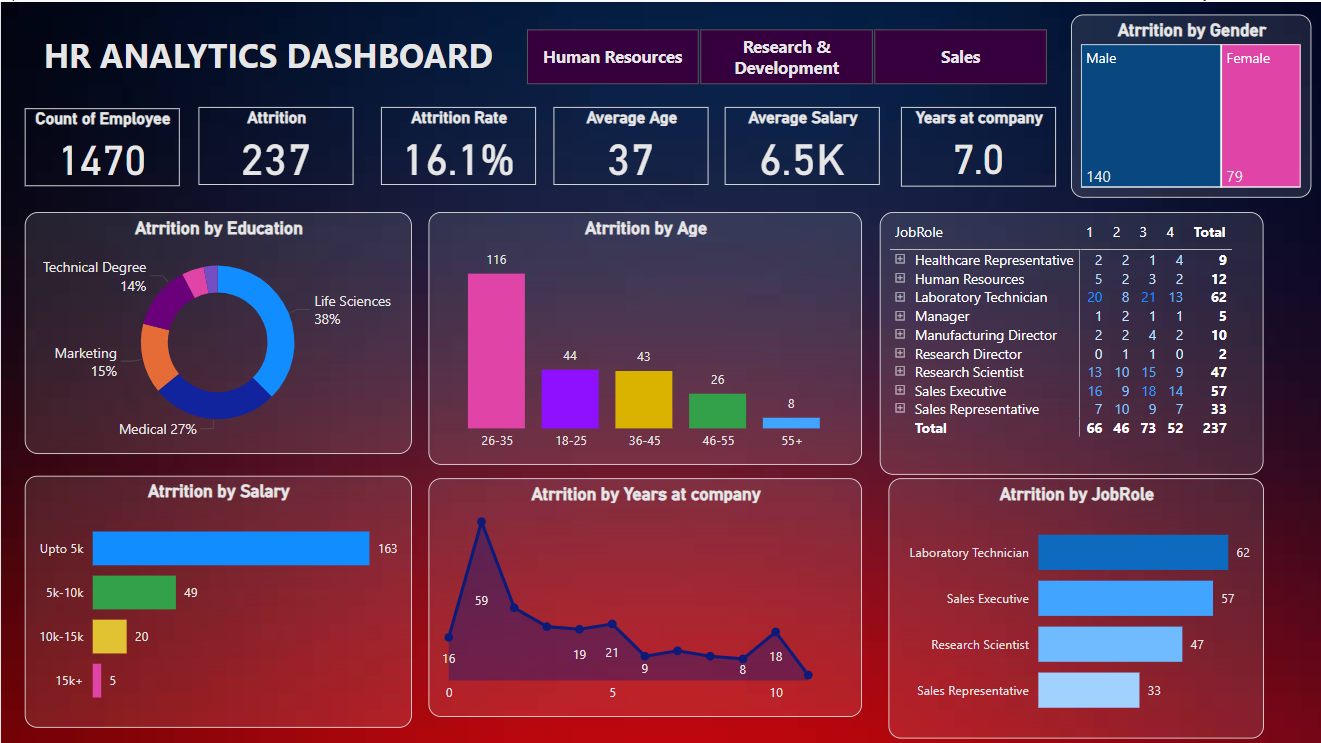

Layout of this report page (visuals, bound fields, positions):
{"tool":"powerbi","page":{"name":"Page 1","canvas":[1280,720],"ordinal":0},"visuals":[{"type":"card","title":"Count of Employee","fields":{"Values":["Count(HR_Analytics.EmpID)"]},"box":[23.3,102.6,149.6,75.5],"z":0},{"type":"card","title":"Attrition","fields":{"Values":["Sum(HR_Analytics.Atrrition_count)"]},"box":[190.7,101.5,149.6,75.5],"z":1000},{"type":"card","title":"Attrition Rate","fields":{"Values":["HR_Analytics.Atrrition_rate"]},"box":[366.4,101.5,149.6,75.5],"z":2000},{"type":"card","title":"Average Age","fields":{"Values":["Avg(HR_Analytics.Age)"]},"box":[533.8,101.5,149.6,75.5],"z":3000},{"type":"card","title":"Average Salary","fields":{"Values":["Avg(HR_Analytics.MonthlyIncome)"]},"box":[698.5,101.5,149.6,75.5],"z":4000},{"type":"card","title":"Years at company","fields":{"Values":["Avg(HR_Analytics.YearsAtCompany)"]},"box":[868.6,101.5,149.6,76.8],"z":5000},{"type":"donutChart","title":"Atrrition by Education","fields":{"Category":["HR_Analytics.EducationField"],"Y":["Sum(HR_Analytics.Atrrition_count)"]},"box":[23.3,203.1,373.2,233.3],"z":6000},{"type":"columnChart","title":"Atrrition by Age","fields":{"Category":["HR_Analytics.AgeGroup"],"Y":["Sum(HR_Analytics.Atrrition_count)"]},"box":[413,203.1,418.5,244.3],"z":7000},{"type":"pivotTable","fields":{"Rows":["HR_Analytics.JobRole","HR_Analytics.Gender"],"Columns":["HR_Analytics.JobSatisfaction"],"Values":["Sum(HR_Analytics.Atrrition_count)"]},"box":[848,203.1,370.5,253.9],"z":8000},{"type":"clusteredBarChart","title":"Atrrition by Salary","fields":{"Category":["HR_Analytics.SalarySlab"],"Y":["Sum(HR_Analytics.Atrrition_count)"]},"box":[23.3,456.9,373.2,242.9],"z":9000},{"type":"clusteredBarChart","title":"Atrrition by JobRole","fields":{"Category":["HR_Analytics.JobRole"],"Y":["Sum(HR_Analytics.Atrrition_count)"]},"box":[856.3,459.7,362.3,251.1],"z":10000},{"type":"stackedAreaChart","title":"Atrrition by Years at company","fields":{"Category":["HR_Analytics.YearsAtCompany"],"Y":["Sum(HR_Analytics.Atrrition_count)"]},"box":[413,459.7,418.5,230.5],"z":11000},{"type":"treemap","title":"Atrrition by Gender","fields":{"Group":["HR_Analytics.Gender"],"Values":["Sum(HR_Analytics.Atrrition_count)"]},"box":[1033.3,12.3,231.9,177],"z":12000},{"type":"slicer","fields":{"Values":["HR_Analytics.Department"]},"box":[481.6,19.2,551.6,67.2],"z":13000},{"type":"textbox","box":[0,24.7,516,61.7],"z":14000}]}

Visuals, with their boxes in screenshot pixels (x1, y1, x2, y2), scaled from the page's 1280x720 canvas onto the 1321x743 screenshot:
"Count of Employee" card: (24, 106, 178, 184)
"Attrition" card: (197, 105, 351, 183)
"Attrition Rate" card: (378, 105, 533, 183)
"Average Age" card: (551, 105, 705, 183)
"Average Salary" card: (721, 105, 875, 183)
"Years at company" card: (896, 105, 1051, 184)
"Atrrition by Education" donutChart: (24, 210, 409, 450)
"Atrrition by Age" columnChart: (426, 210, 858, 462)
pivotTable - HR_Analytics.JobRole x HR_Analytics.Gender: (875, 210, 1258, 472)
"Atrrition by Salary" clusteredBarChart: (24, 471, 409, 722)
"Atrrition by JobRole" clusteredBarChart: (884, 474, 1258, 734)
"Atrrition by Years at company" stackedAreaChart: (426, 474, 858, 712)
"Atrrition by Gender" treemap: (1066, 13, 1306, 195)
slicer - HR_Analytics.Department: (497, 20, 1066, 89)
textbox: (0, 25, 533, 89)
